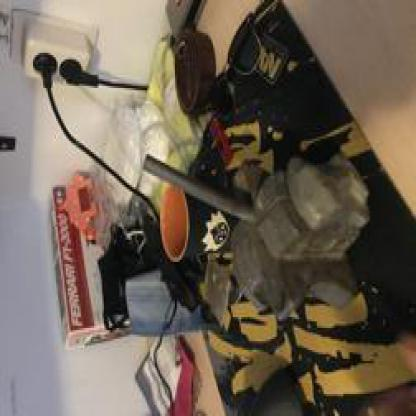Twistlock: (130, 130, 383, 334)
